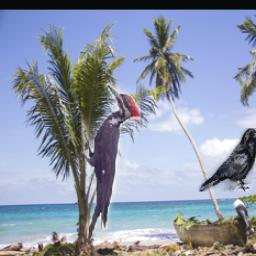Crow: (199, 128, 256, 192)
Woodpecker: (81, 83, 141, 239)
